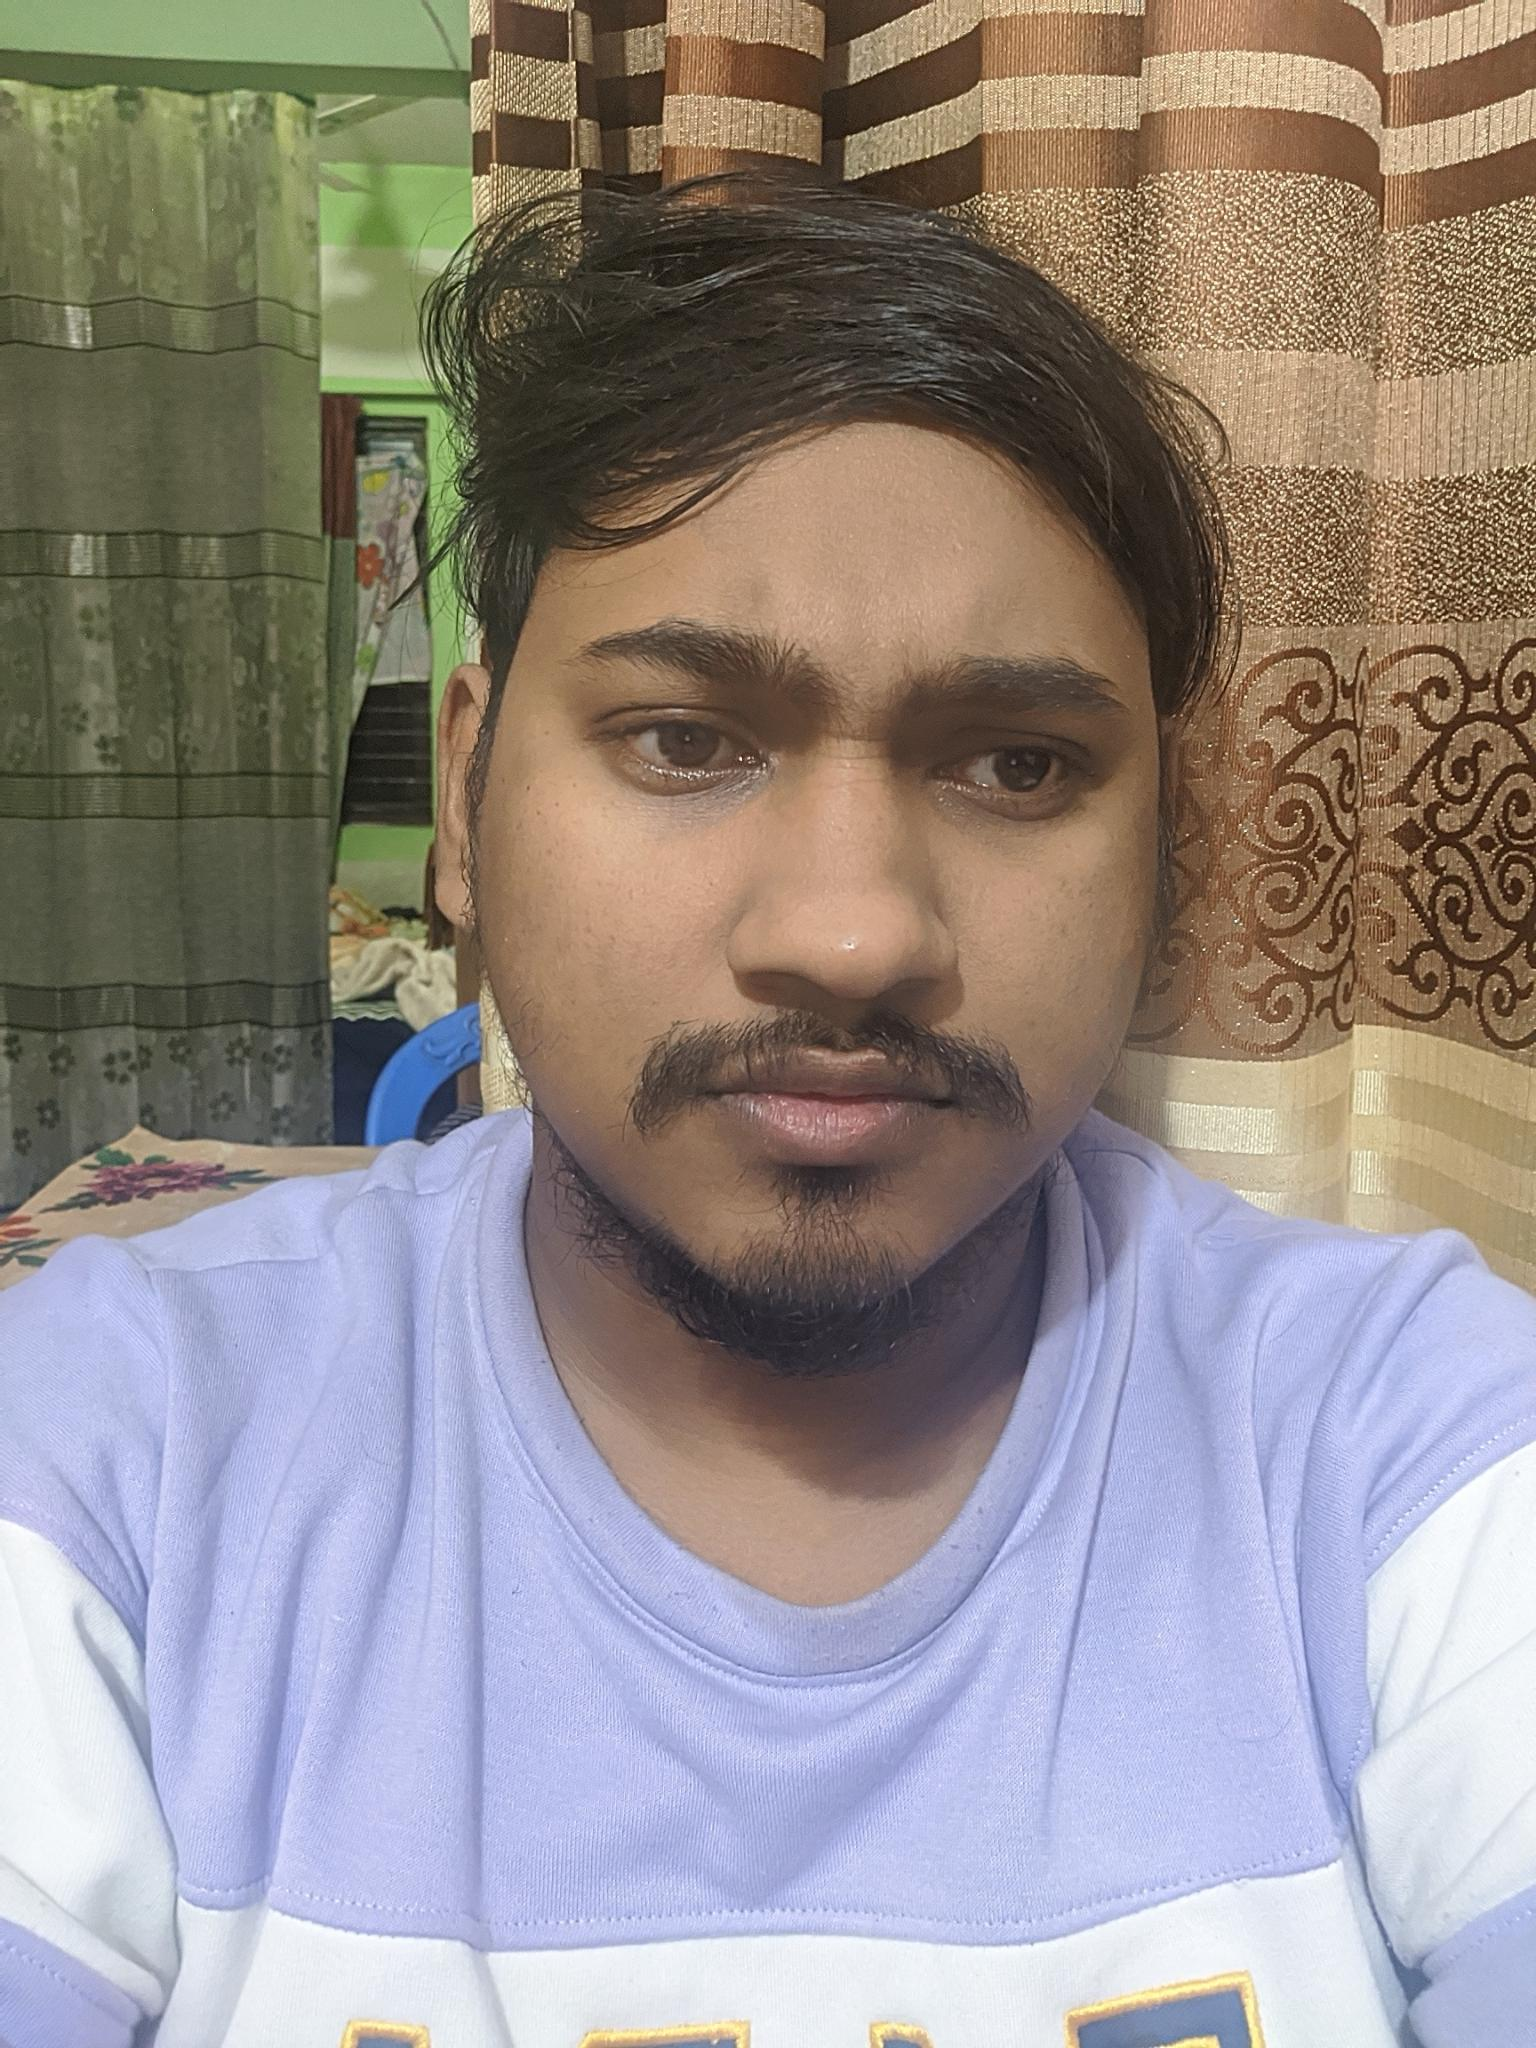Angry: (529, 526, 1176, 1308)
